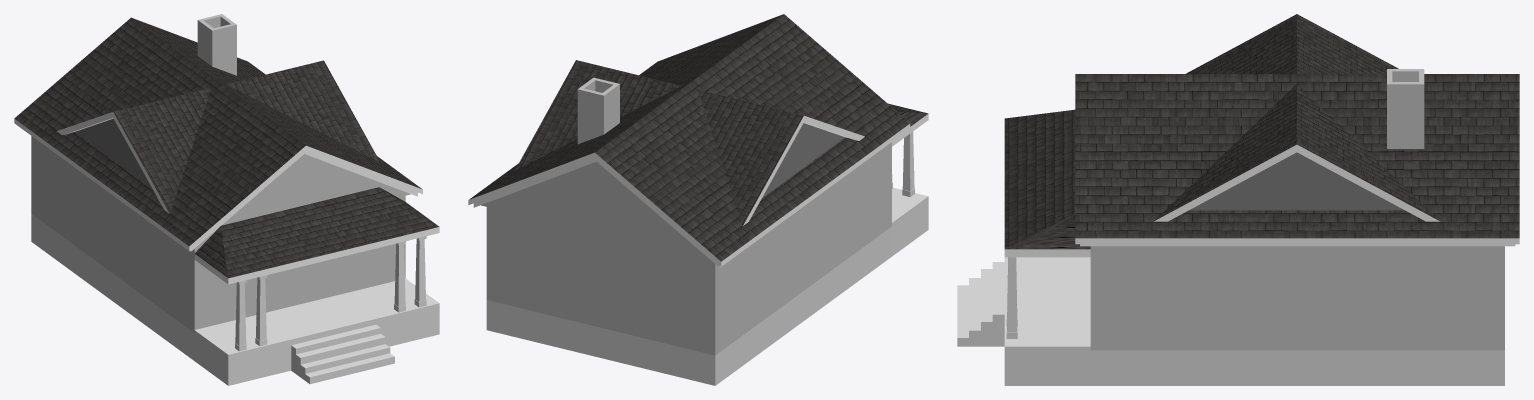
The model's file is cunt.fbx.
3 views of the same model, side by side, from view 1: azimuth 30°, elevation 25°; view 2: azimuth 150°, elevation 25°; view 3: azimuth 270°, elevation 25° (orthographic). The views are drawn at different scales.
Parts seen in each view (by area): view 1: Line003, Plane002, Plane003, Line007, Line005, Line008, Plane004, Box001; view 2: Plane002, Line003, Plane003, Line007, Box001, Plane004, Line005; view 3: Line003, Plane002, Plane003, Line007, Line005, Line008, Box001, Plane004.
Boxes of the visible parts, x1,y1,x2,y2 form: Line003: (14,17,422,251); Plane002: (31,136,410,332); Plane003: (31,214,439,385); Line007: (57,60,380,213); Line005: (194,187,439,284); Line008: (291,324,394,383); Plane004: (235,236,426,351); Box001: (197,14,236,75); Plane002: (481,142,891,355); Line003: (468,14,910,267); Plane003: (486,187,928,385); Line007: (515,60,864,225); Box001: (577,77,619,144); Plane004: (892,131,914,197); Line005: (888,103,928,146); Line003: (1075,74,1519,246); Plane002: (1090,246,1504,350); Plane003: (1004,257,1504,385); Line007: (1153,14,1440,221); Line005: (1004,109,1090,257); Line008: (957,262,1004,346); Box001: (1387,69,1424,148); Plane004: (1006,257,1017,338).
Bounding box in the file's own units: 809 × 702 × 1328.
